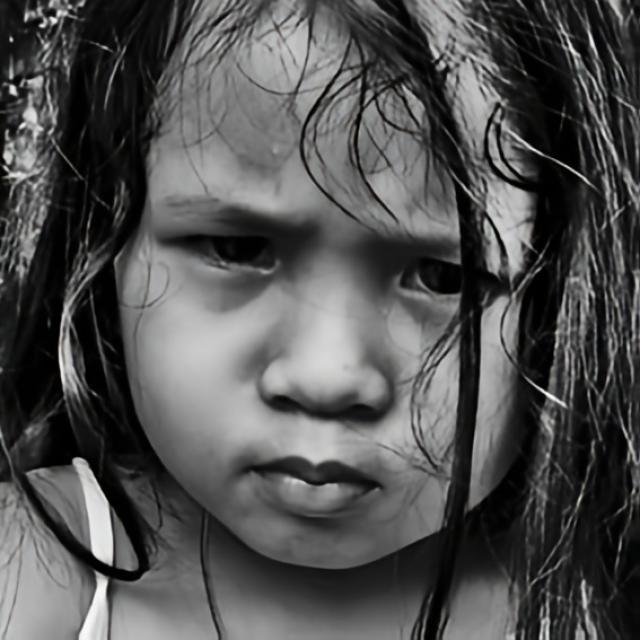sad: (111, 0, 548, 573)
